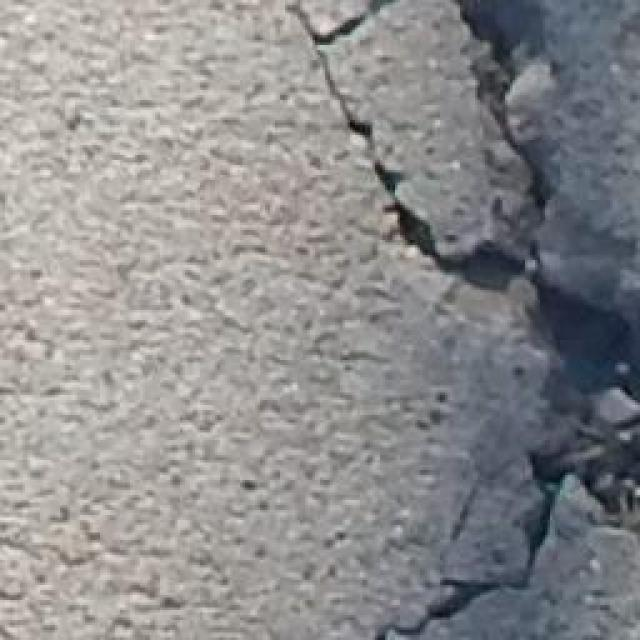concrete-crack: (278, 0, 639, 640)
